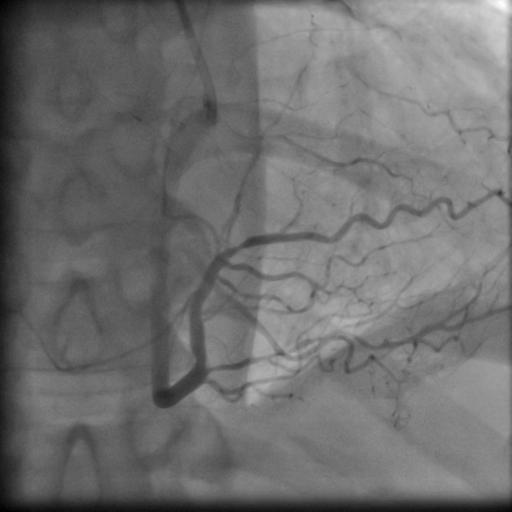Stenosis: (224, 237, 253, 254)
